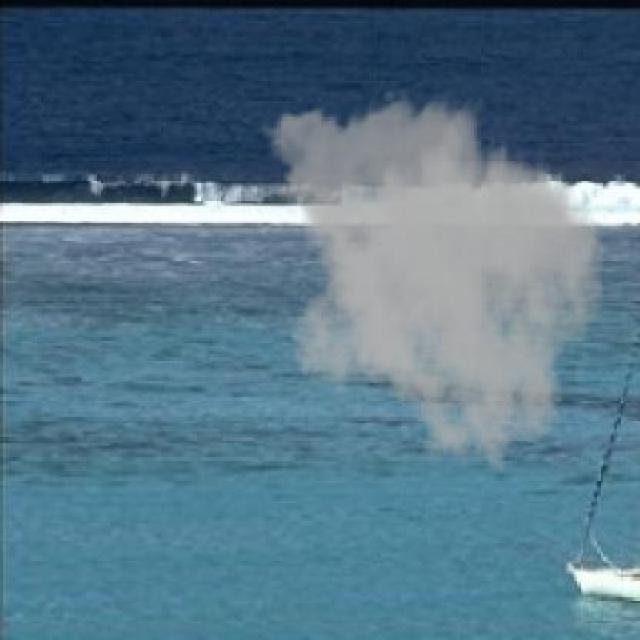smoke: (240, 83, 600, 460)
